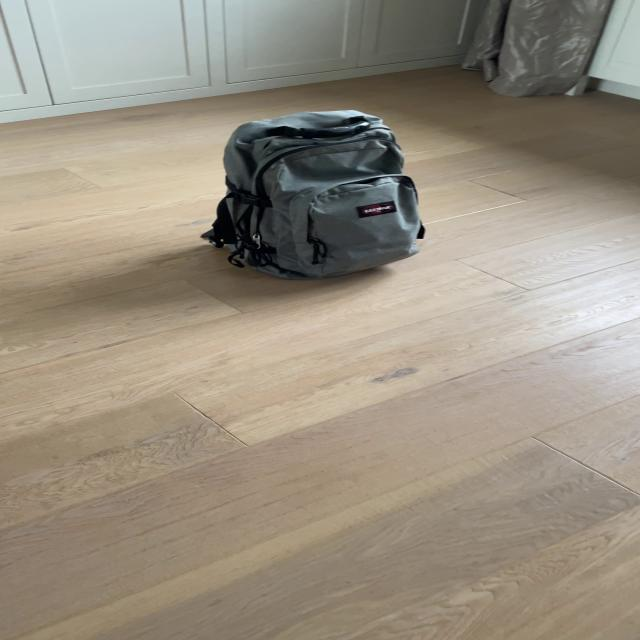backpack: (198, 101, 433, 286)
